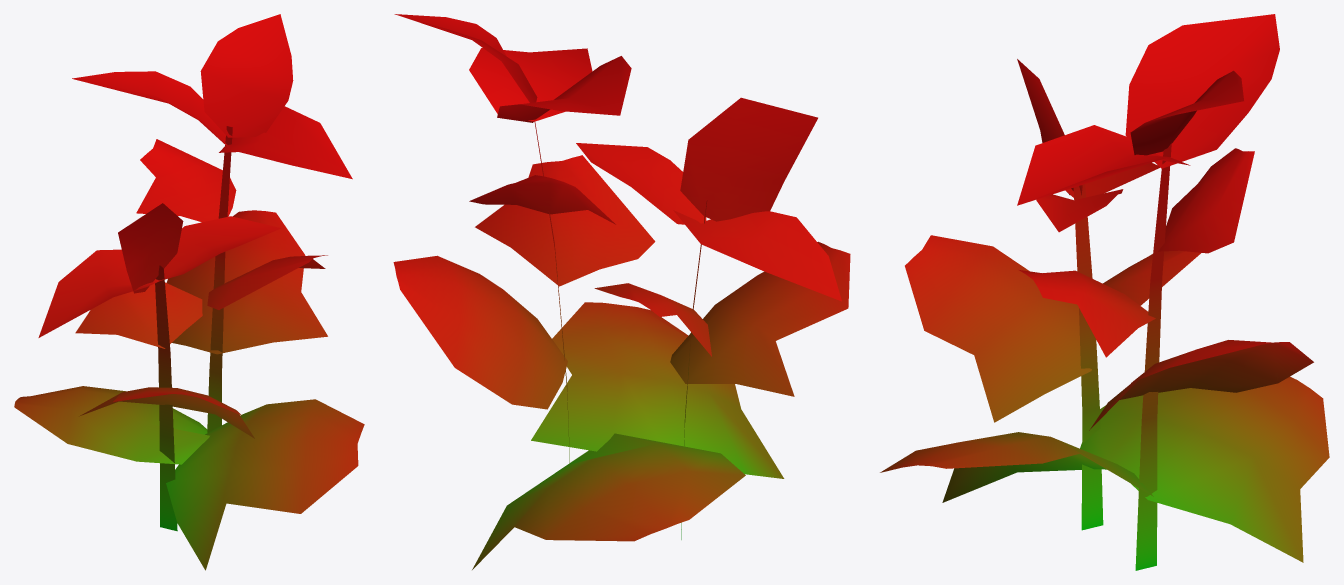
Rendered from Raspberry_LOD3_Var12_wf0oefeja.fbx.
3 renders of one model, left to right at view 1: azimuth 30°, elevation 25°; view 2: azimuth 150°, elevation 25°; view 3: azimuth 270°, elevation 25°, orthographic. The views are drawn at different scales.
Visible parts, largest first — view 1: _99h9_Var12_LOD3; view 2: _99h9_Var12_LOD3; view 3: _99h9_Var12_LOD3.
Boxes of the visible parts, box(x1,y1,x2,y2) form: _99h9_Var12_LOD3: box(14, 14, 364, 570); _99h9_Var12_LOD3: box(393, 14, 850, 569); _99h9_Var12_LOD3: box(880, 14, 1329, 570).
Bounding box in the file's own units: 12.1 × 16.32 × 12.53.
